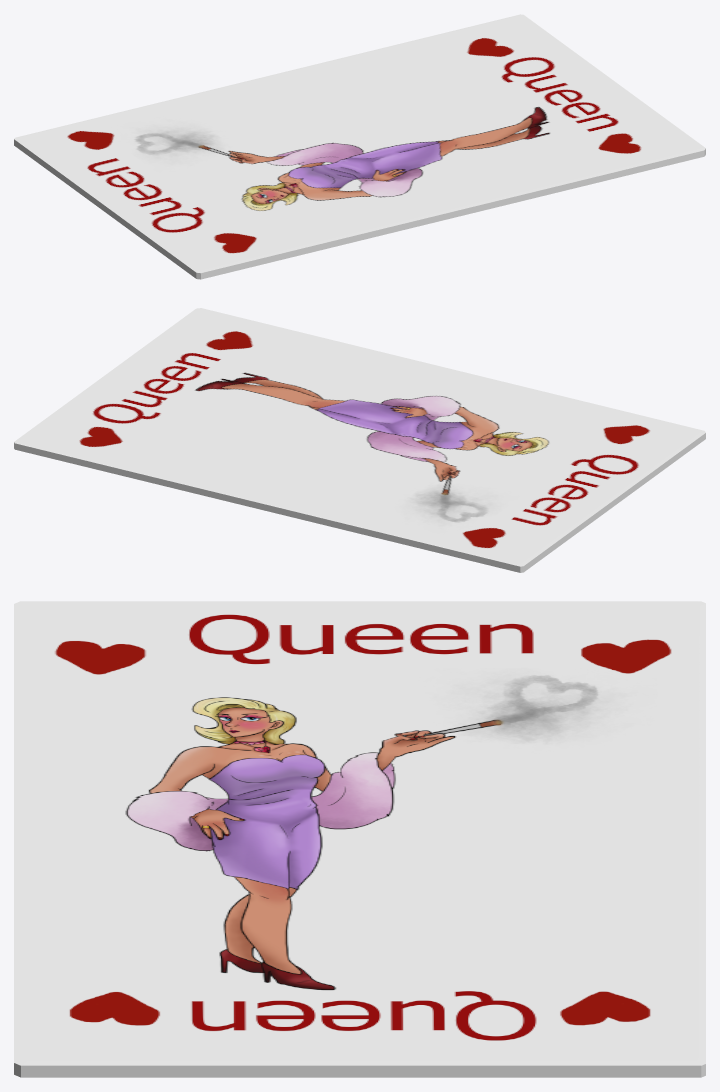
The model's file is Queen_Of_hearts.fbx.
The picture shows the model from 3 angles, top to bottom: view 1: azimuth 30°, elevation 25°; view 2: azimuth 150°, elevation 25°; view 3: azimuth 270°, elevation 25°; orthographic projection. The views are drawn at different scales.
Visible parts, largest first — view 1: hearts6; view 2: hearts6; view 3: hearts6.
Boxes of the visible parts, left/top/right/bottom form: hearts6: left=14, top=14, right=705, bottom=279; hearts6: left=14, top=308, right=705, bottom=572; hearts6: left=14, top=601, right=705, bottom=1077.
Bounding box in the file's own units: 540 × 6.56 × 340.
